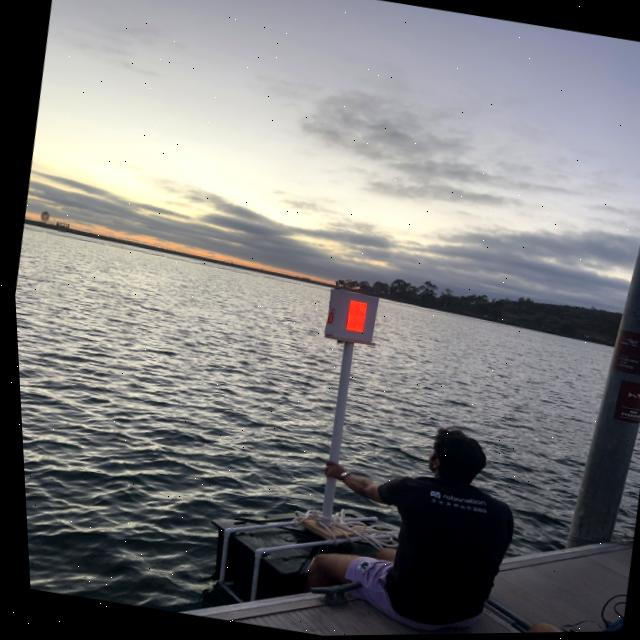led: (328, 287, 382, 347)
